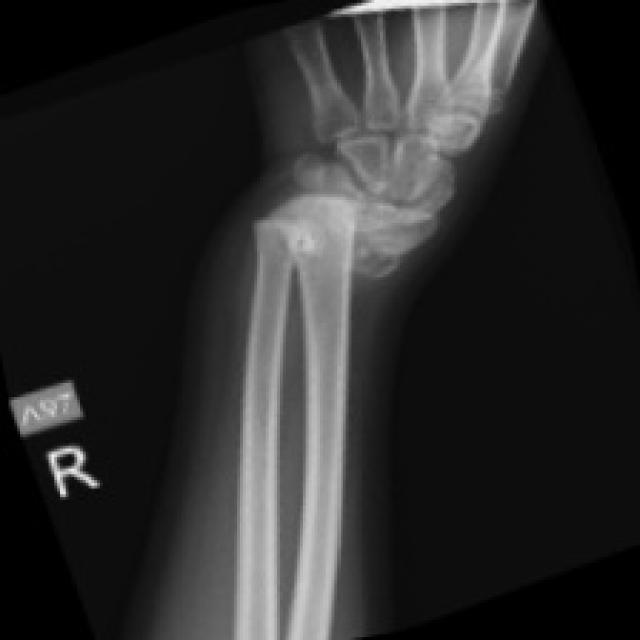fracture: (220, 144, 388, 327)
